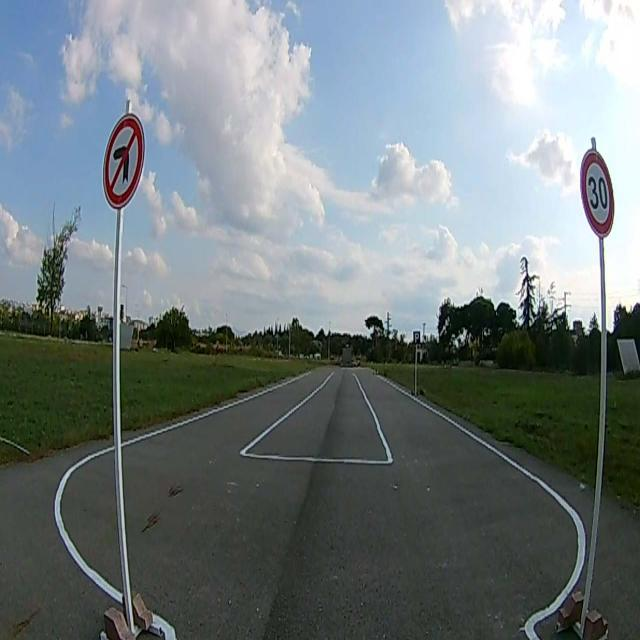30: (580, 151, 616, 237)
soladonulmez: (104, 116, 146, 204)
